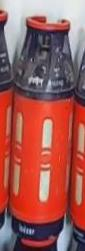cylinder: (1, 1, 85, 251)
